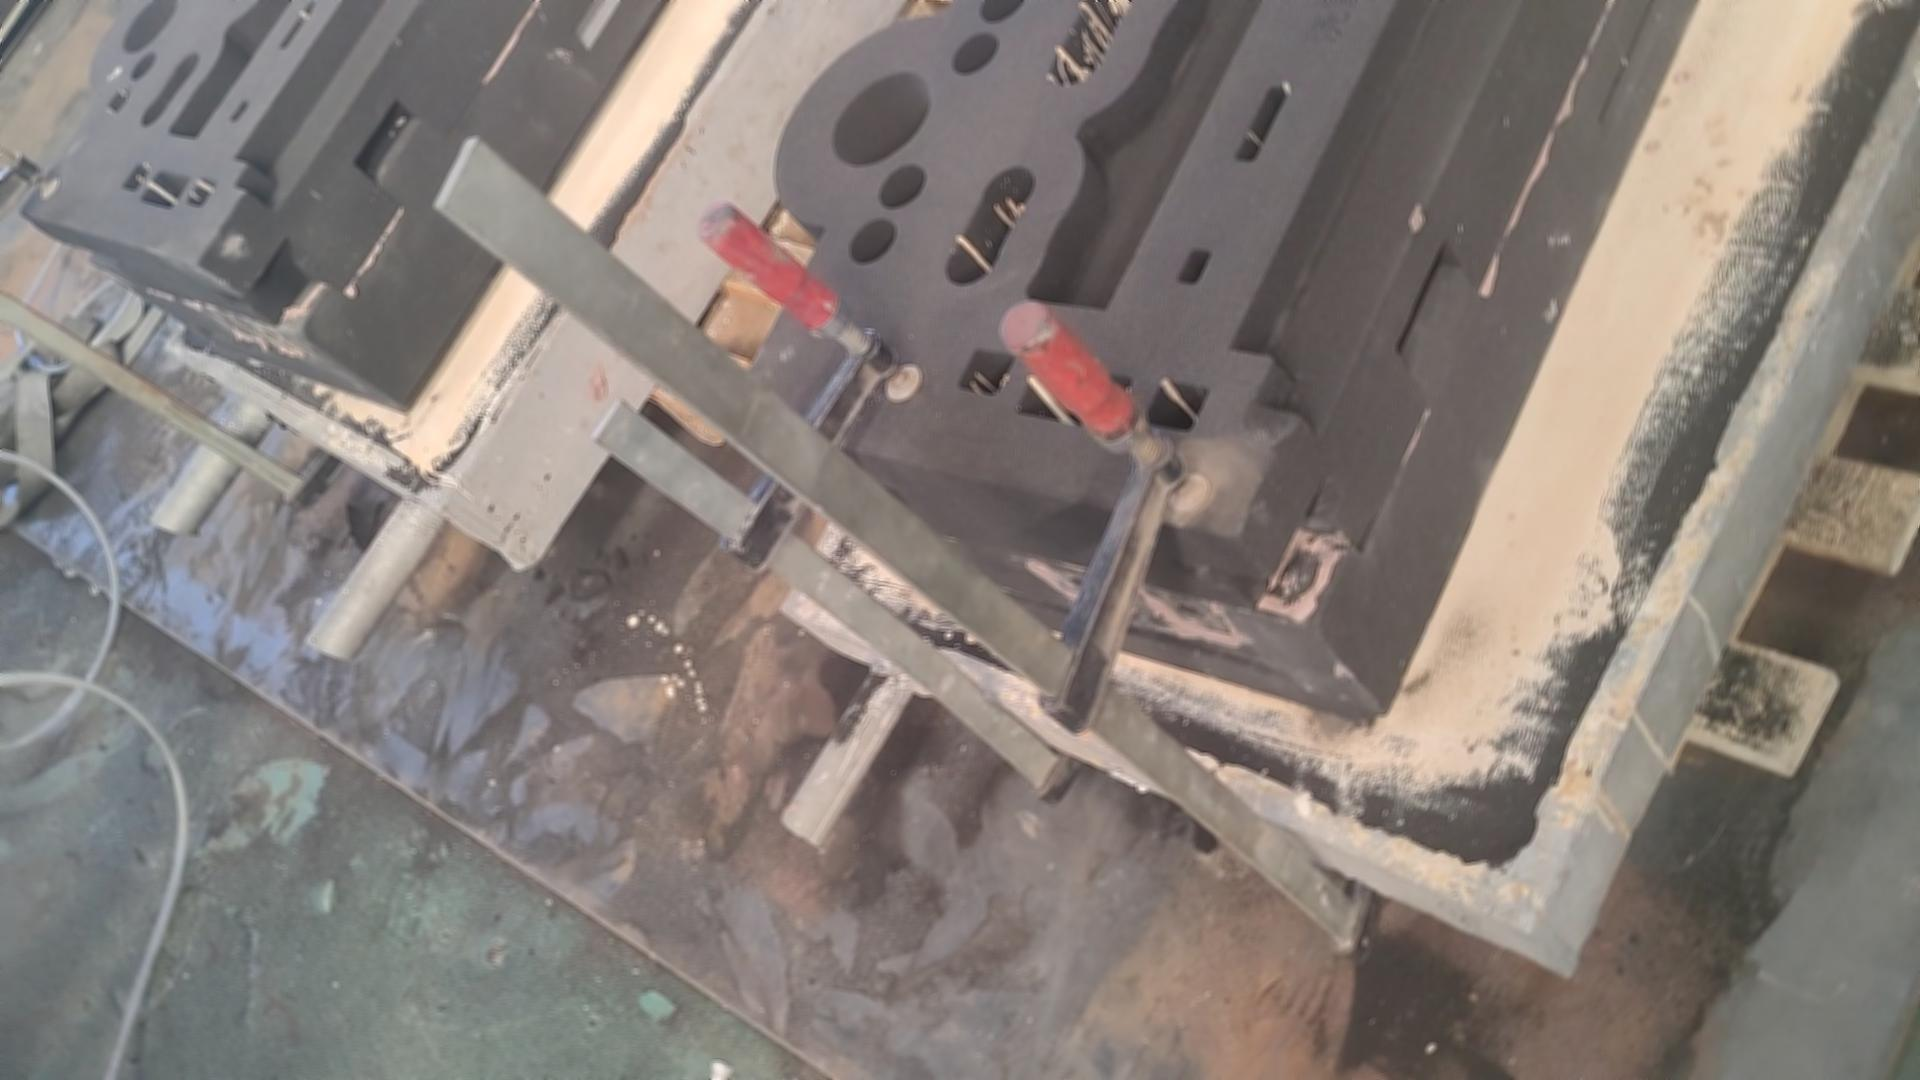pouring hole: (833, 71, 931, 166), (123, 1, 177, 51)
